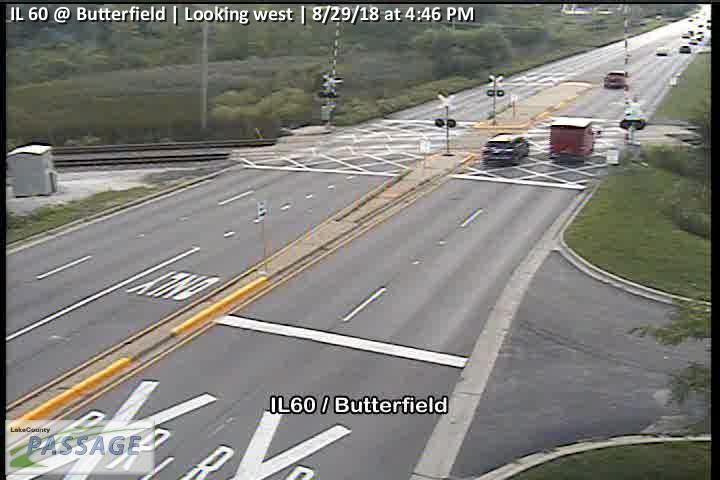SUV: (482, 133, 529, 164)
Sedan: (605, 70, 627, 89)
Truck: (551, 119, 601, 159)
